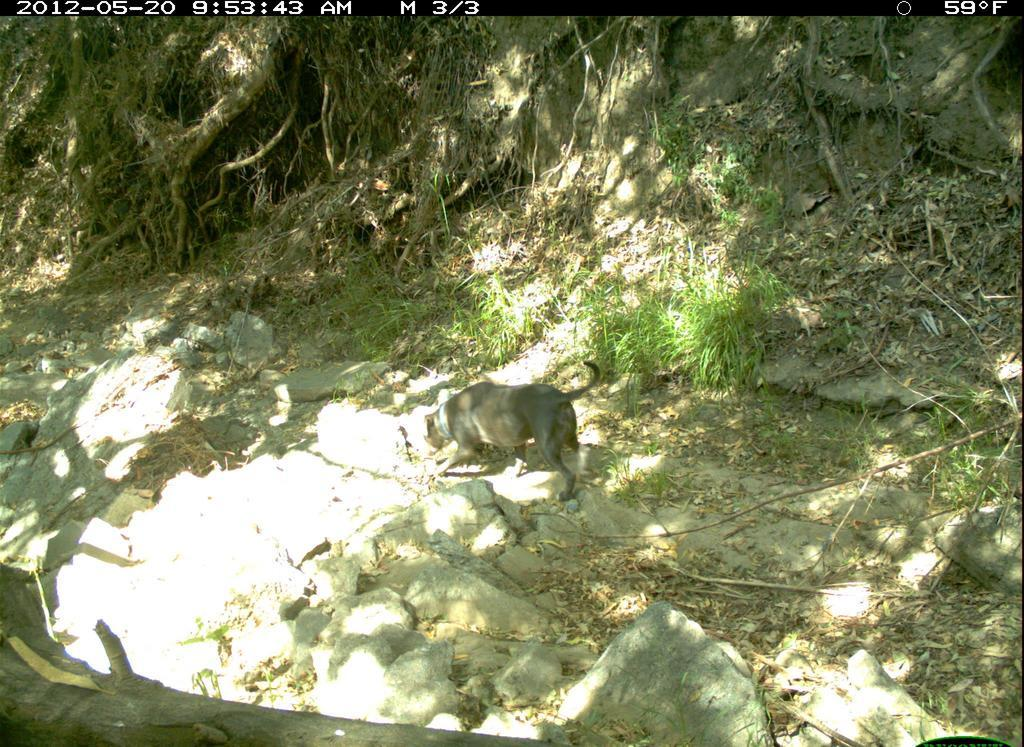dog: (405, 356, 620, 506)
